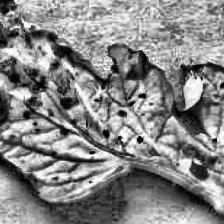disease: (0, 0, 224, 210)
